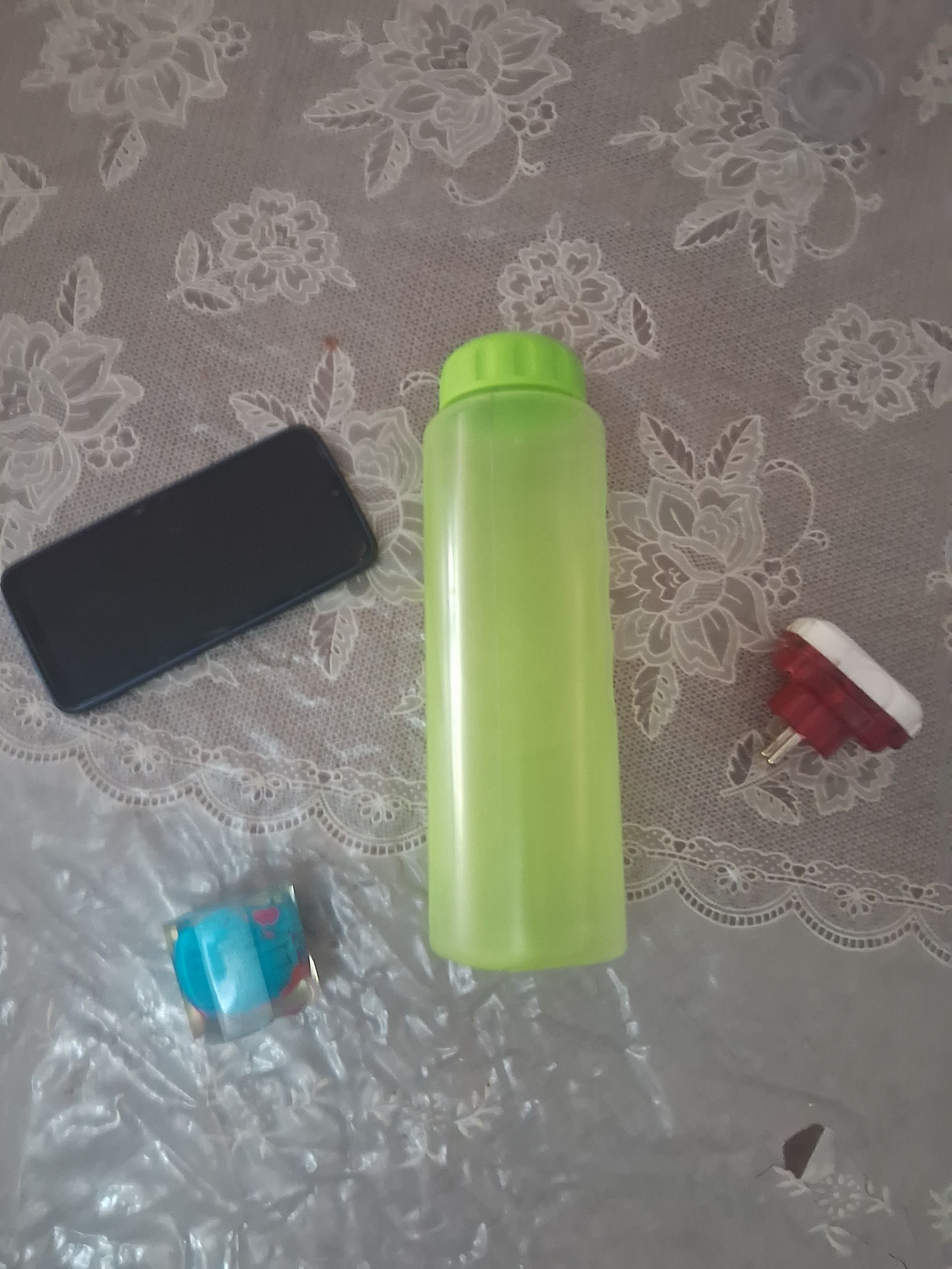Multi_adapter: (756, 606, 928, 777)
Smart_phone: (3, 415, 392, 722)
Water_bottle: (411, 329, 635, 978)
world_globe: (158, 878, 327, 1048)
